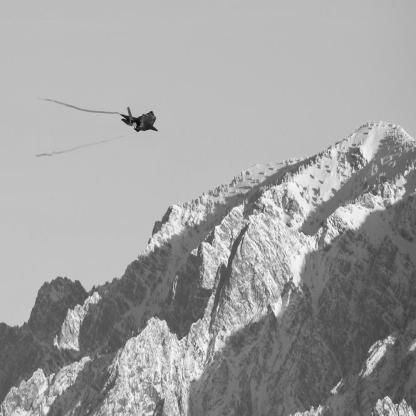F35: (120, 107, 161, 134)
